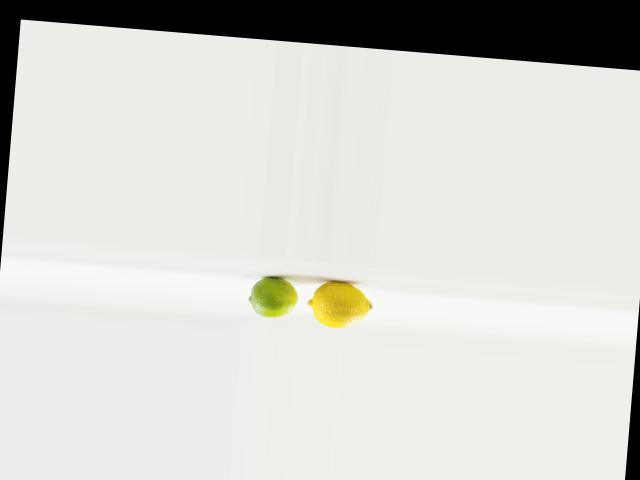lemon: (309, 278, 373, 333)
